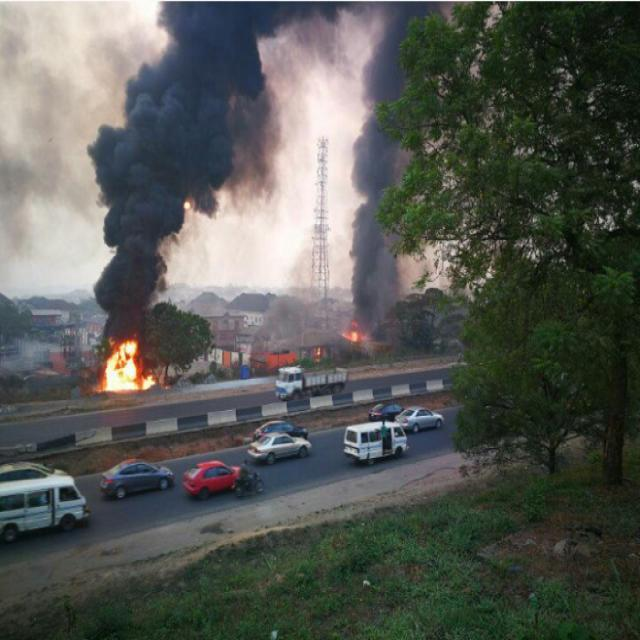Fire: (92, 329, 166, 406), (345, 319, 358, 341)
